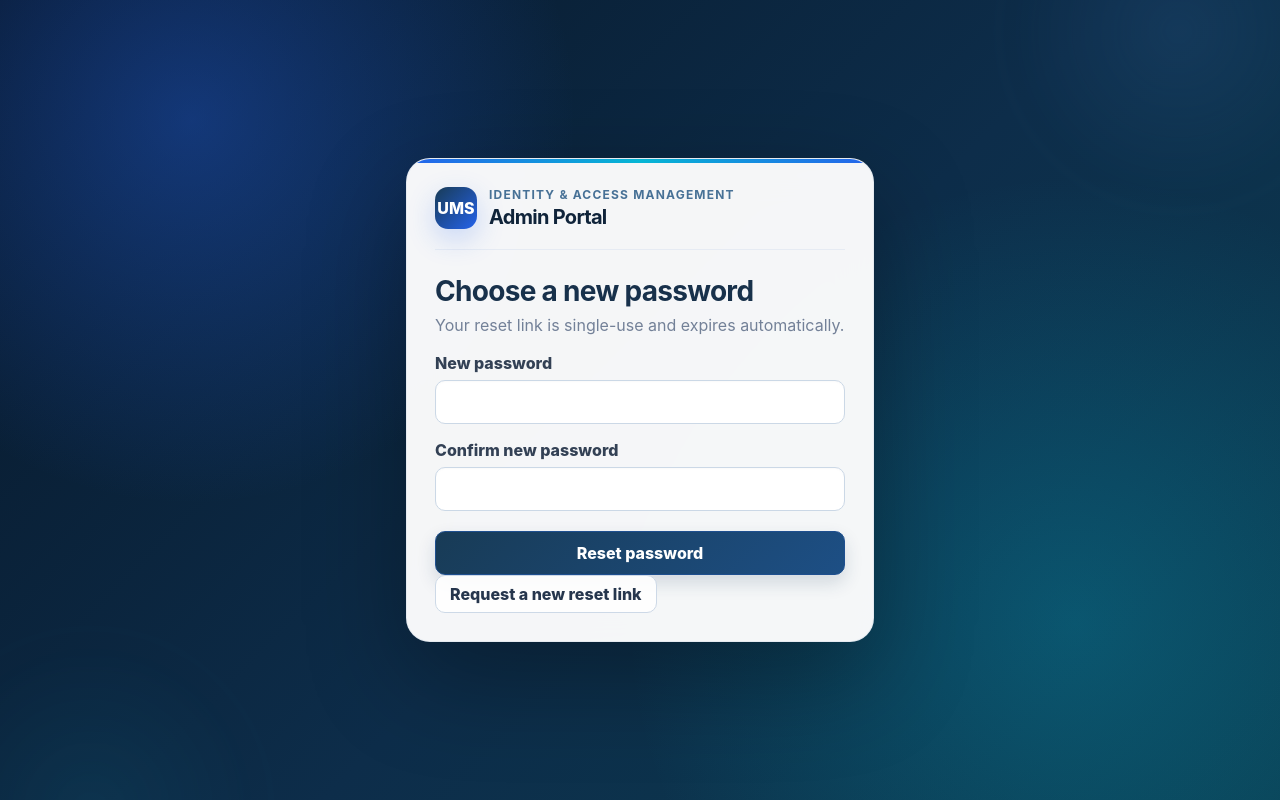
password recovery pages › submits the token and new password, then sends the user back to sign in
Type "NewPassword@123" into the password field labelled "New password" at (640, 402), box [435,380,845,424]
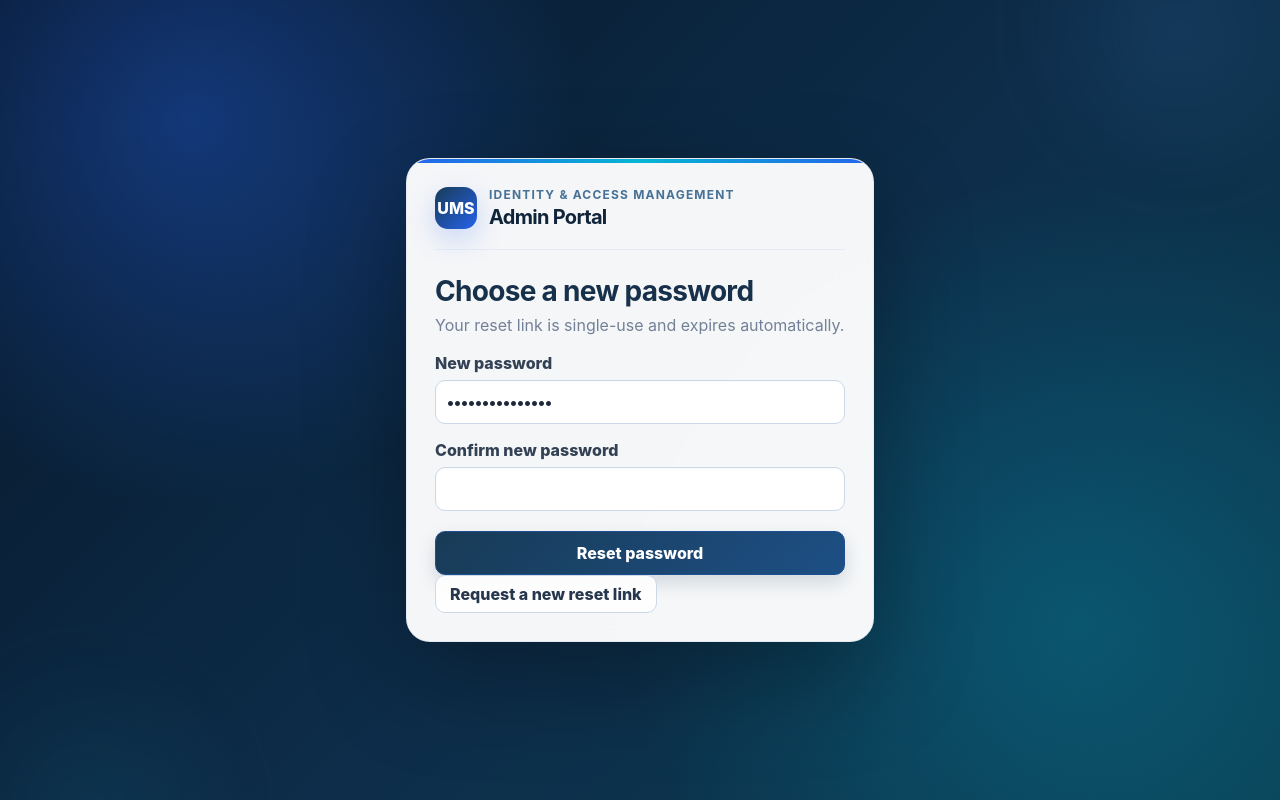
Type "NewPassword@123" into the password field labelled "Confirm new password" at (640, 489), box [435,467,845,511]
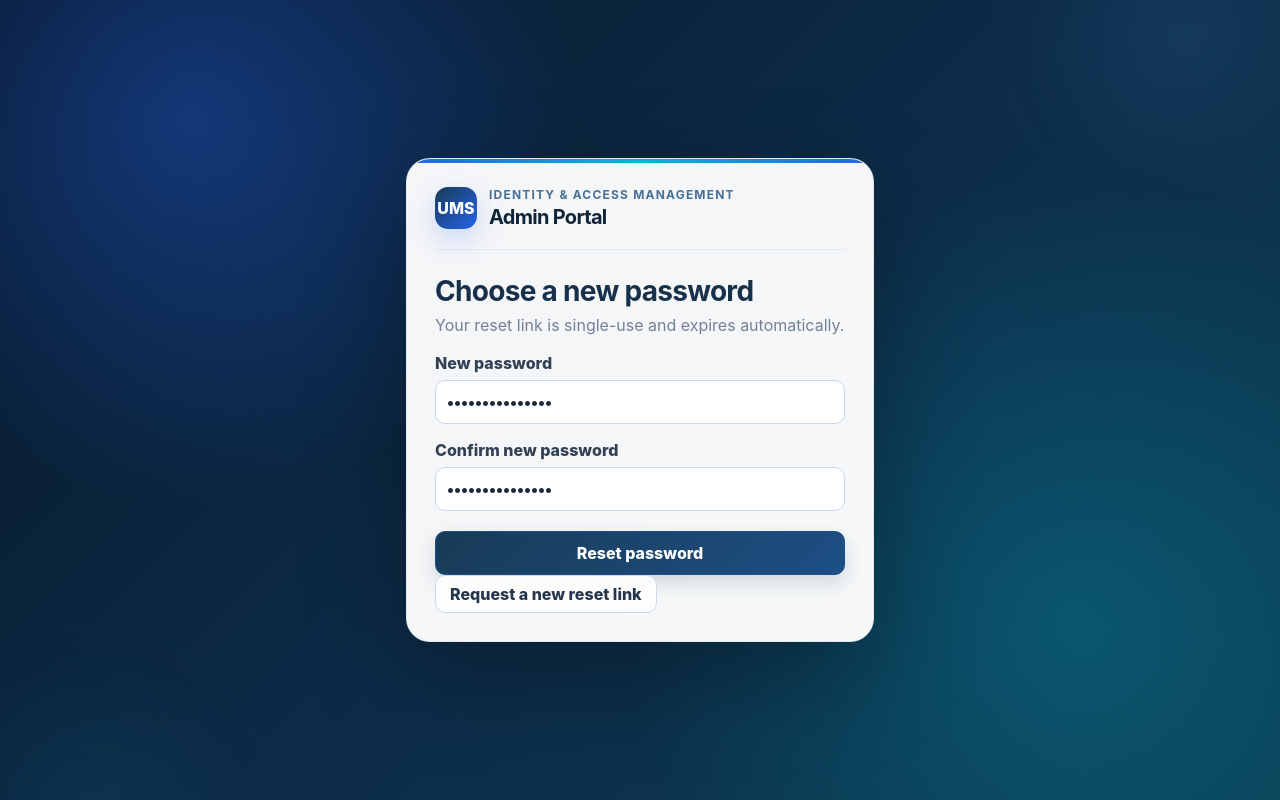
Click the button "Reset password" at (640, 553), box [435,531,845,575]
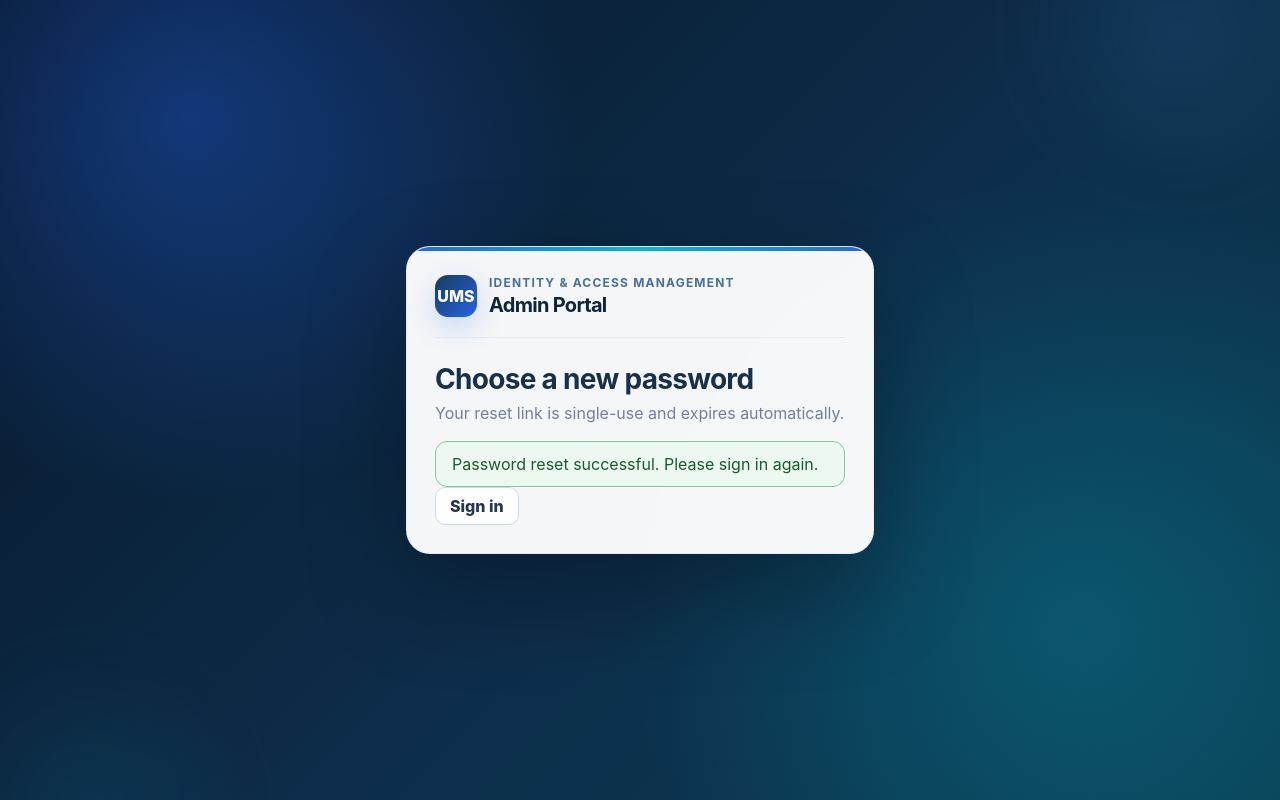
Now the text "Password reset successful. Please sign in again." is shown, box [435,441,845,487]
